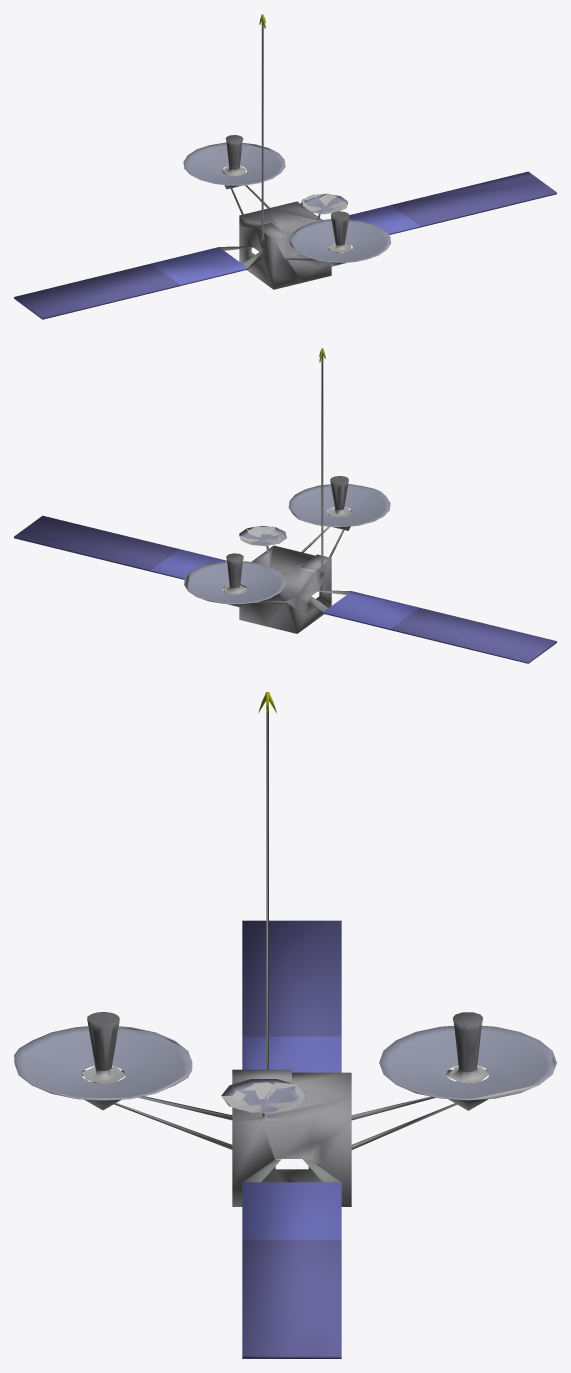
The model's file is tdrs.glb.
3 views of the same model, one above another, from view 1: azimuth 30°, elevation 25°; view 2: azimuth 150°, elevation 25°; view 3: azimuth 270°, elevation 25° (orthographic). The views are drawn at different scales.
Parts seen in each view (by area): view 1: polySurface5, transform8; view 2: polySurface5, transform8; view 3: polySurface5, transform8.
Part boxes in pixels (x1,y1,x2,y2): polySurface5: (14,14,556,319); transform8: (183,143,390,269); polySurface5: (14,348,556,663); transform8: (184,484,390,613); polySurface5: (14,692,556,1358); transform8: (14,1027,556,1182).
Bounding box in the file's own units: 0.8866 × 0.4489 × 0.4675.
Materials: 3 (3 with a texture image).
